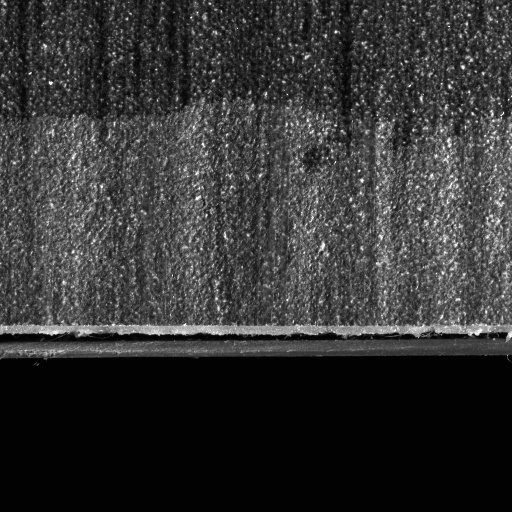kaijiao: (0, 321, 511, 364)
